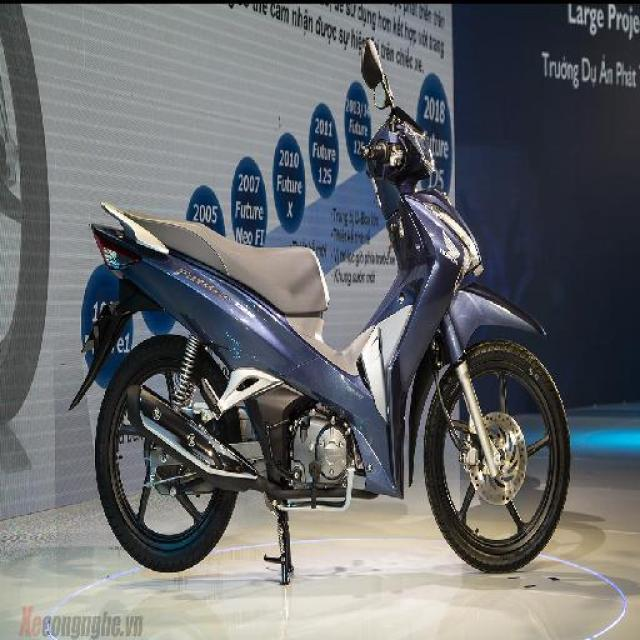All: (63, 103, 573, 575)
Head: (356, 109, 437, 180)
Tail: (84, 196, 161, 279)
